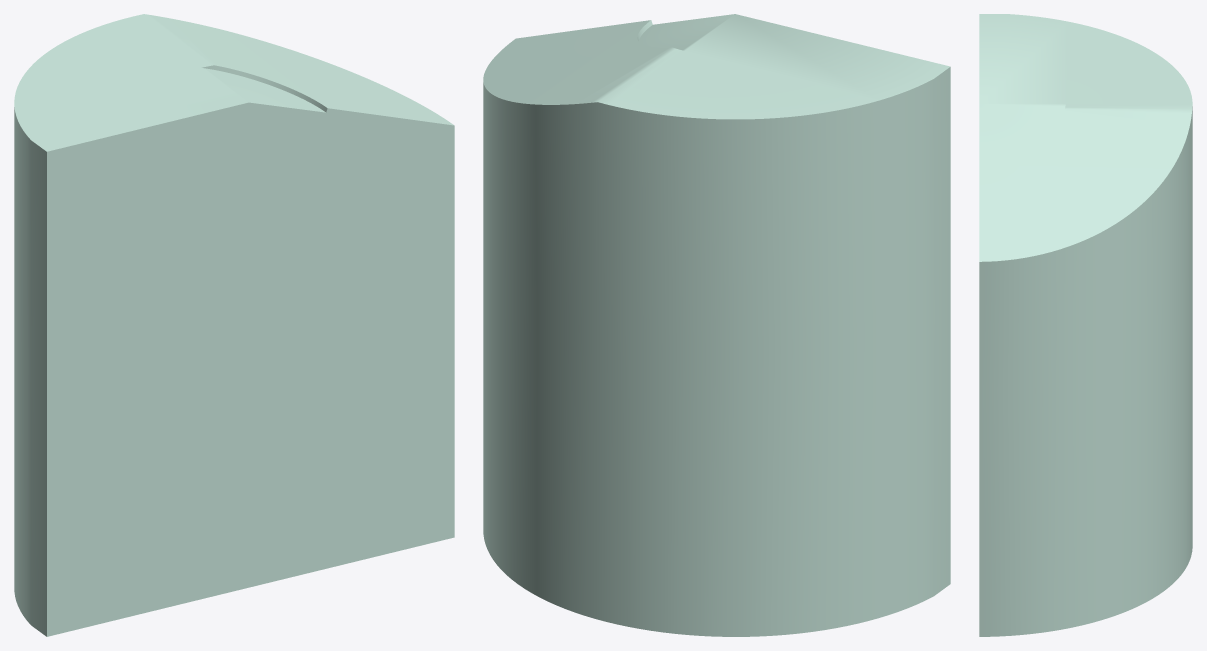
The picture shows the model from 3 angles, left to right: view 1: azimuth 30°, elevation 25°; view 2: azimuth 150°, elevation 25°; view 3: azimuth 270°, elevation 25°; orthographic projection. The views are drawn at different scales.
Parts seen in each view (by area): view 1: Renderer Node; view 2: Renderer Node; view 3: Renderer Node.
Part boxes in pixels (x1=…): Renderer Node: x1=14, y1=14, x2=454, y2=636; Renderer Node: x1=483, y1=14, x2=950, y2=636; Renderer Node: x1=979, y1=14, x2=1192, y2=636.
Bounding box in the file's own units: 0.6597 × 0.75 × 0.3281.
